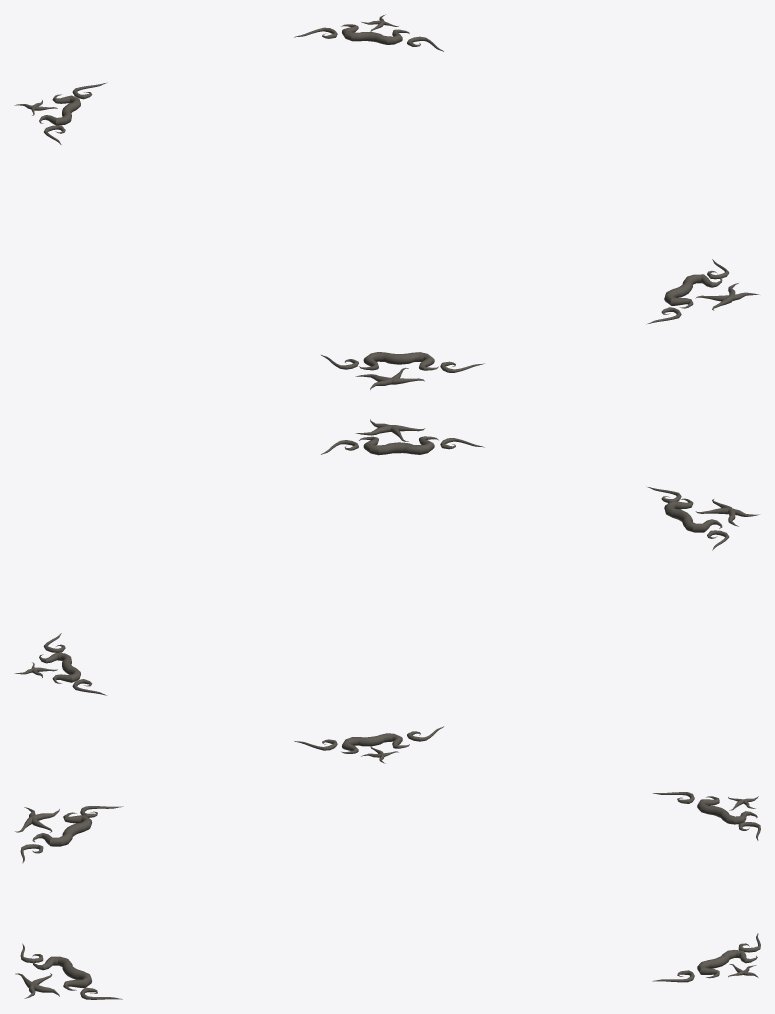
File: newpinball_utitoge.fbx
3 views of the same model, one above another, from view 1: azimuth 30°, elevation 25°; view 2: azimuth 150°, elevation 25°; view 3: azimuth 270°, elevation 25° (orthographic).
Visible parts, largest first — view 1: utitoge; view 2: utitoge; view 3: utitoge.
Boxes of the visible parts, x1,y1,x2,y2 form: utitoge: [14, 14, 759, 389]; utitoge: [14, 419, 759, 763]; utitoge: [15, 792, 760, 999].
Bounding box in the file's own units: 206 × 11.86 × 338.
